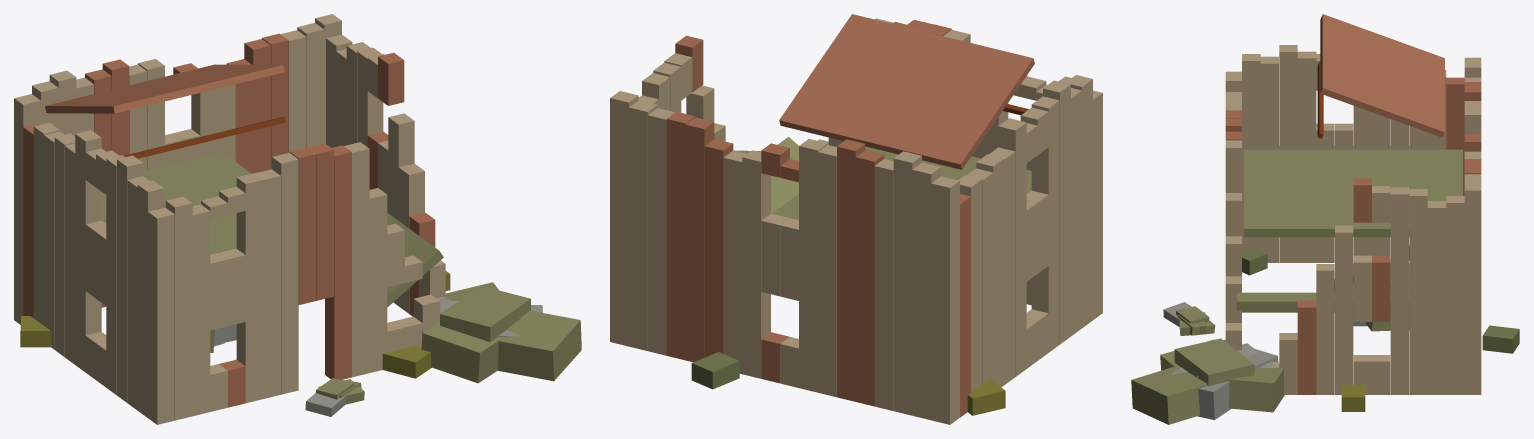
The model's file is SM_CasaRuina_v1_DosPlantas_LOD0.fbx.
3 renders of one model, left to right at view 1: azimuth 30°, elevation 25°; view 2: azimuth 150°, elevation 25°; view 3: azimuth 270°, elevation 25°, orthographic. The views are drawn at different scales.
Parts seen in each view (by area): view 1: SM_casa_ruina_v1_LOD0; view 2: SM_casa_ruina_v1_LOD0; view 3: SM_casa_ruina_v1_LOD0.
Part boxes in pixels (<box>): SM_casa_ruina_v1_LOD0: <box>14,14,581,424</box>; SM_casa_ruina_v1_LOD0: <box>610,14,1102,424</box>; SM_casa_ruina_v1_LOD0: <box>1131,14,1519,424</box>.
Bounding box in the file's own units: 11.74 × 7.54 × 10.64.
